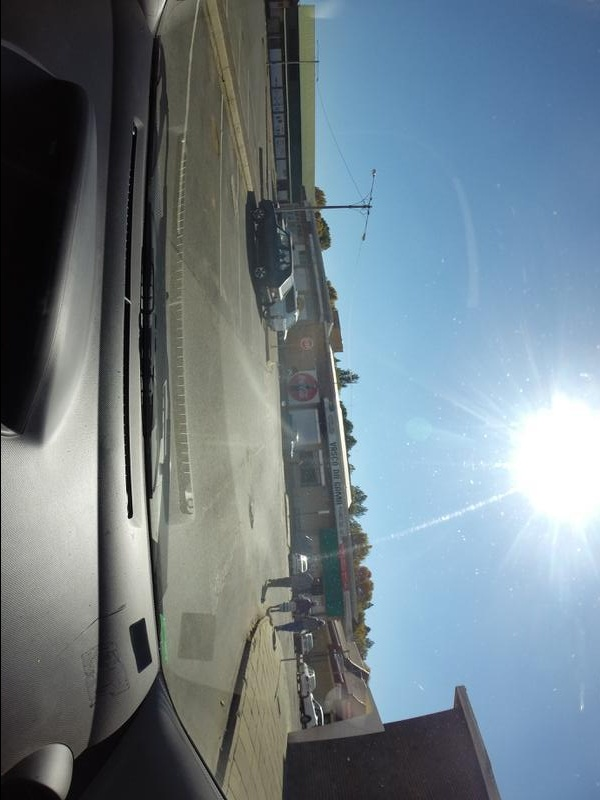pothole: (241, 479, 260, 536), (203, 120, 225, 154)
